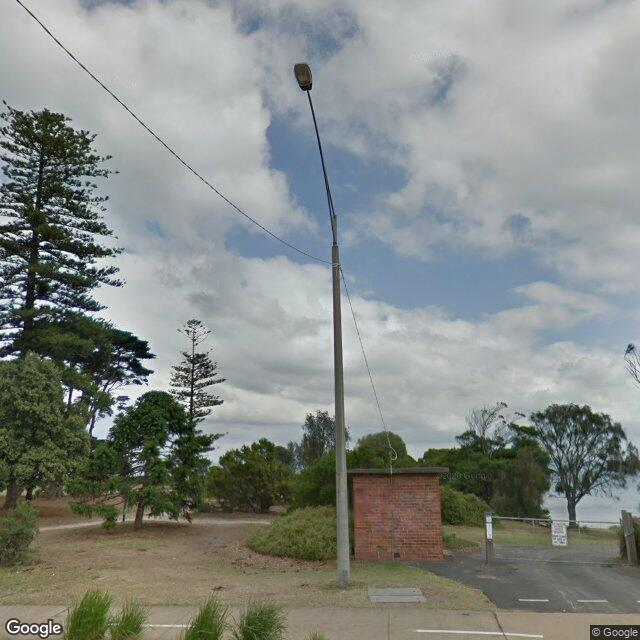steel-pole: (333, 212, 350, 582)
streetlight: (294, 61, 337, 246)
